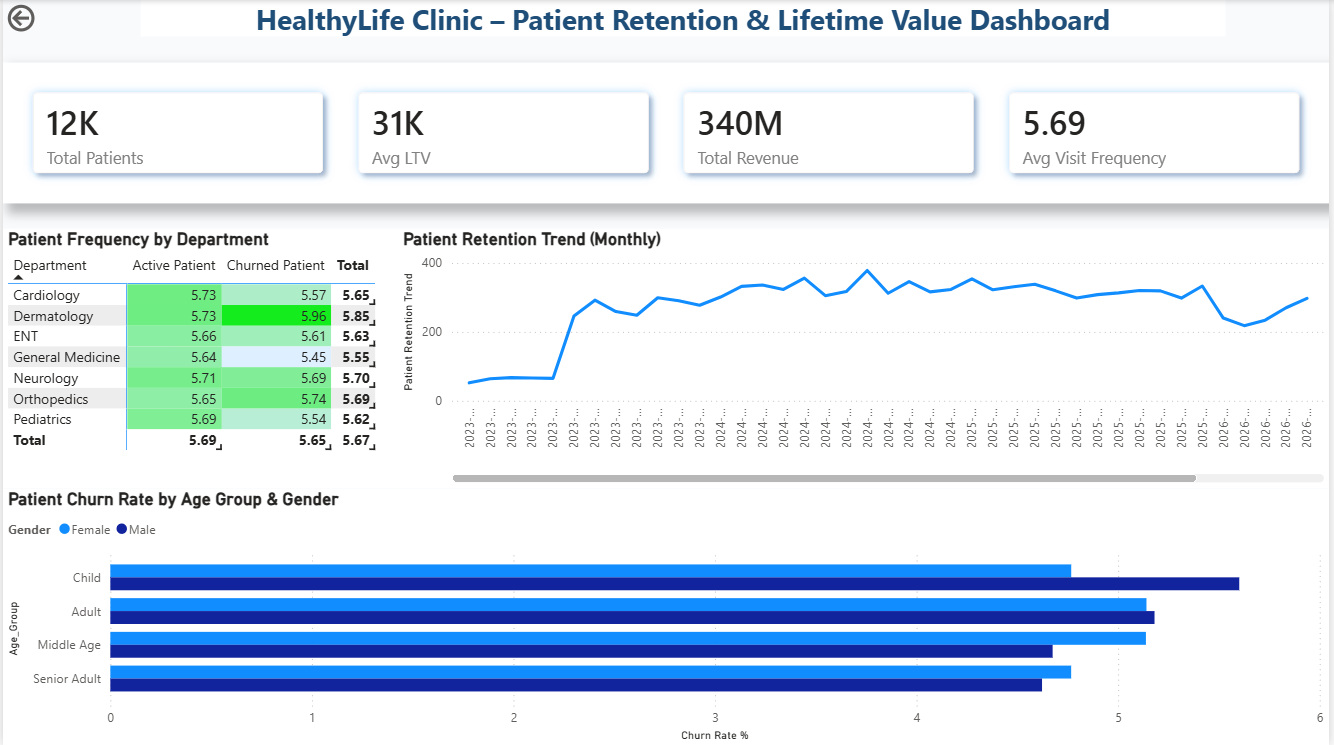

The page's visual inventory and layout, read from the dashboard file:
{"tool":"powerbi","page":{"name":"Retention Dashboard ","canvas":[1280,720],"ordinal":0},"visuals":[{"type":"cardVisual","fields":{"Data":["fact_patient_ltv fact_patient_ltv.Total Patients","fact_patient_ltv fact_patient_ltv.Total Revenue","fact_patient_ltv fact_patient_ltv.Total Revenue1","fact_patient_ltv fact_patient_ltv.Avg Visit Frequency"]},"box":[0,60,1280,136.2],"z":0},{"type":"clusteredBarChart","title":"Patient Churn Rate by Age Group & Gender","fields":{"Category":["fact_patient_ltv dim_patient.Age_Group"],"Series":["fact_patient_ltv dim_patient.Gender"],"Y":["fact_patient_ltv fact_patient_ltv.Churn Rate %"]},"box":[0,471.2,1280,248.8],"z":1000},{"type":"pivotTable","title":"Patient Frequency by Department","fields":{"Rows":["fact_patient_ltv dim_department.Department"],"Columns":["fact_patient_ltv dim_patient_status.Patient_Status"],"Values":["select","fact_patient_ltv fact_patient_ltv.Avg Visit Frequency"]},"box":[0,221.2,381.2,250],"z":2000},{"type":"lineChart","title":"Patient Retention Trend (Monthly)","fields":{"Y":["Count(fact_patient_ltv patient_rfm_analysis.Patient_ID)"],"Category":["fact_patient_ltv dim_date.Year_Month_New"]},"box":[381.2,221.2,898.8,250],"z":4000},{"type":"actionButton","box":[0,0,90,35],"z":5000},{"type":"textbox","title":"HealthyLife Clinic – Patient Retention & Lifetime Value Dashboard","box":[132.7,0,1047.2,35],"z":6000}]}

Visuals, with their boxes in screenshot pixels (x1, y1, x2, y2), scaled from the page's 1280x720 canvas onto the 1334x745 screenshot:
cardVisual - fact_patient_ltv fact_patient_ltv.Total Patients x fact_patient_ltv fact_patient_ltv.Total Revenue: <box>0,62,1333,203</box>
"Patient Churn Rate by Age Group & Gender" clusteredBarChart: <box>0,488,1333,744</box>
"Patient Frequency by Department" pivotTable: <box>0,229,397,488</box>
"Patient Retention Trend (Monthly)" lineChart: <box>397,229,1333,488</box>
actionButton: <box>0,0,94,36</box>
"HealthyLife Clinic – Patient Retention & Lifetime Value Dashboard" textbox: <box>138,0,1230,36</box>
